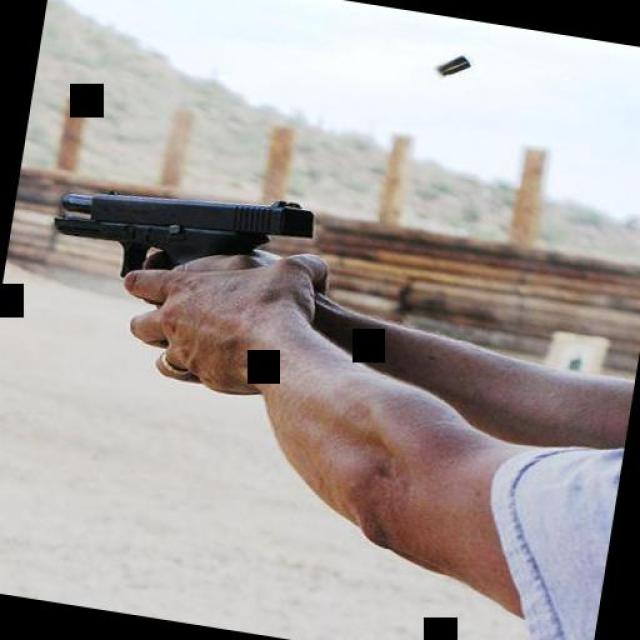gun: (42, 158, 314, 304)
